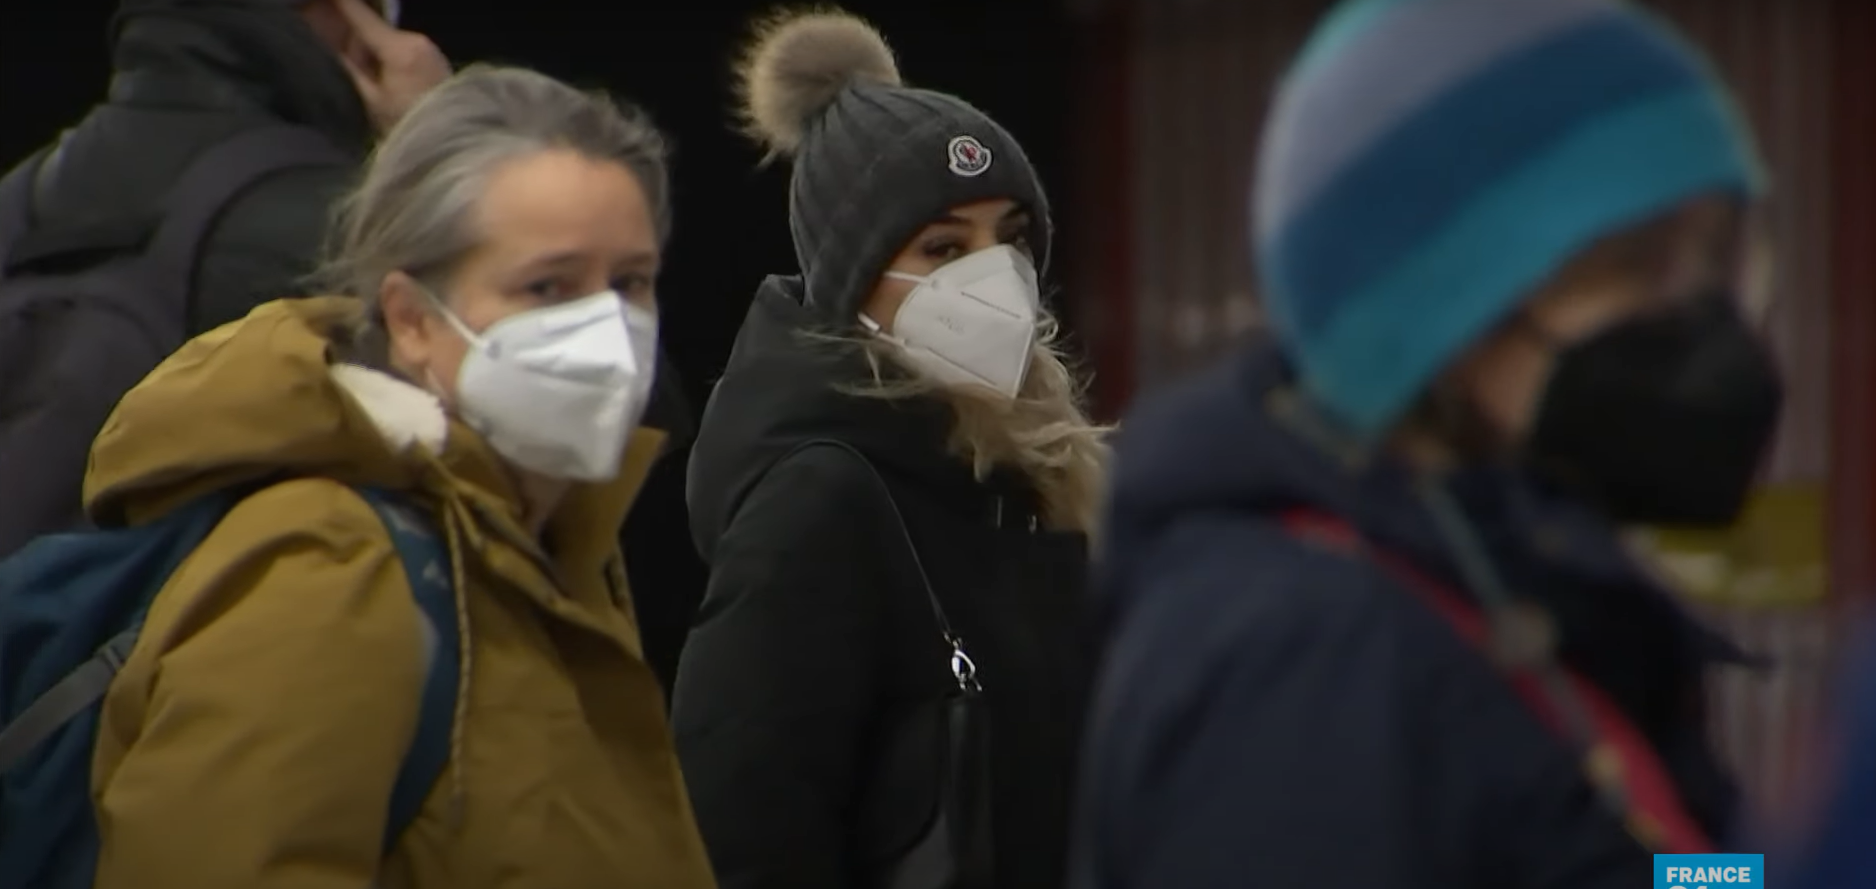with_mask: (1495, 186, 1784, 553), (393, 131, 647, 487), (860, 196, 1035, 410)
